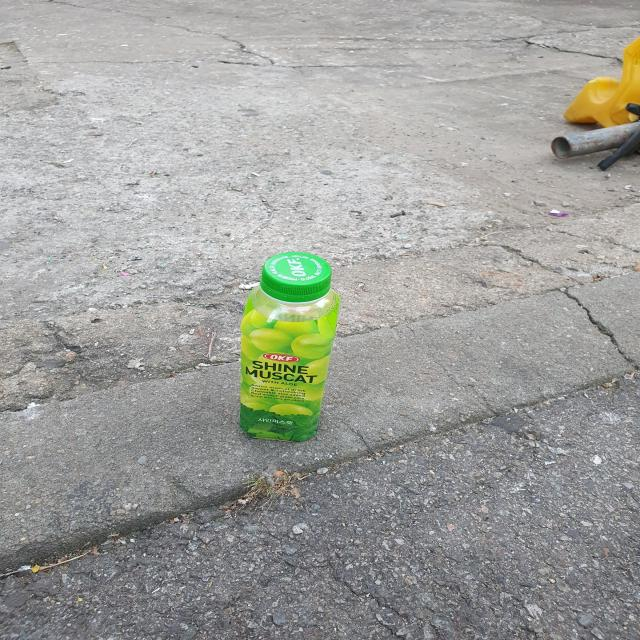plastic: (239, 252, 340, 442)
